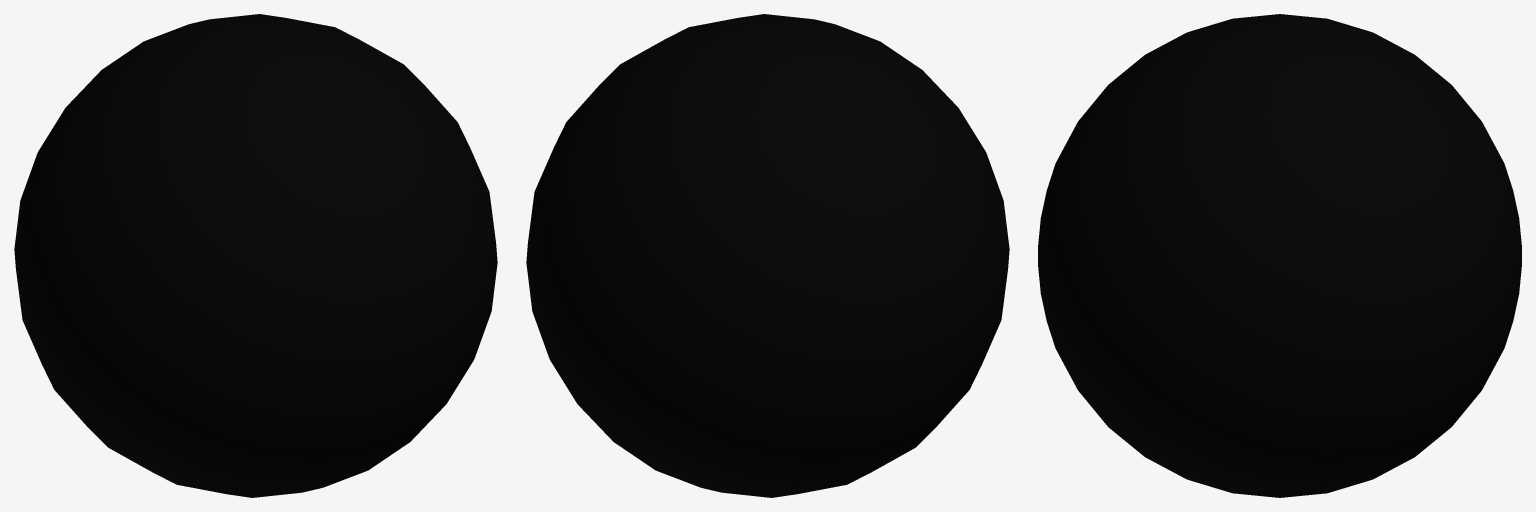
File: BossProjectile.fbx
3 renders of one model, left to right at view 1: azimuth 30°, elevation 25°; view 2: azimuth 150°, elevation 25°; view 3: azimuth 270°, elevation 25°, orthographic.
Parts seen in each view (by area): view 1: Projectile; view 2: Projectile; view 3: Projectile.
Boxes of the visible parts, x1=… form: Projectile: x1=14, y1=14, x2=497, y2=497; Projectile: x1=526, y1=14, x2=1009, y2=497; Projectile: x1=1038, y1=14, x2=1521, y2=497.
Bounding box in the file's own units: 208 × 208 × 207.
